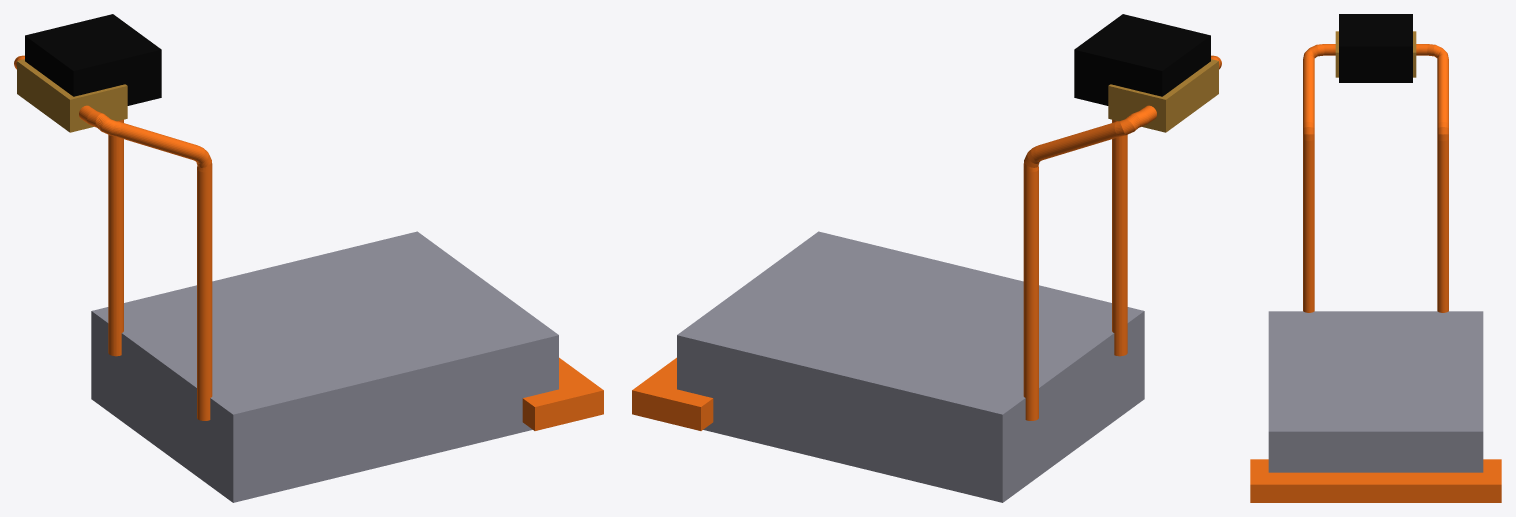
Rendered from VOLVO_AVG.dae.
3 views of the same model, side by side, from view 1: azimuth 30°, elevation 25°; view 2: azimuth 150°, elevation 25°; view 3: azimuth 270°, elevation 25° (orthographic). The views are drawn at different scales.
Visible parts, largest first — view 1: Cube, Cylinder, Cube.002, Cube.001, Cube.003; view 2: Cube, Cylinder, Cube.002, Cube.001, Cube.003; view 3: Cube, Cube.003, Cylinder, Cube.002, Cube.001.
Boxes of the visible parts, box(x1,y1,x2,y2) form: Cube: box(91, 231, 558, 502); Cylinder: box(14, 55, 212, 420); Cube.002: box(25, 14, 161, 105); Cube.001: box(17, 59, 127, 132); Cube.003: box(522, 357, 603, 430); Cube: box(677, 231, 1144, 502); Cylinder: box(1023, 55, 1221, 420); Cube.002: box(1074, 14, 1210, 105); Cube.001: box(1108, 59, 1218, 132); Cube.003: box(632, 357, 713, 430); Cube: box(1268, 311, 1483, 472); Cube.003: box(1250, 459, 1501, 502); Cylinder: box(1303, 44, 1448, 312); Cube.002: box(1339, 14, 1412, 82); Cube.001: box(1335, 31, 1416, 77).
Size of the model in its own units: 2.49 by 1.5 by 2.12.
